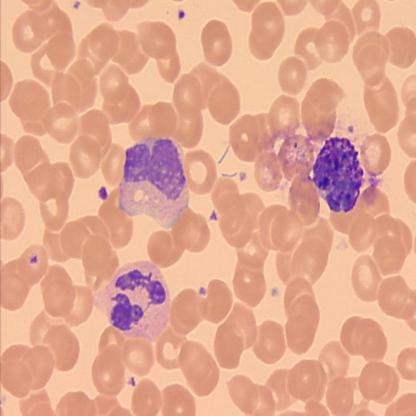Basophil: (115, 132, 193, 229), (310, 131, 366, 214)
